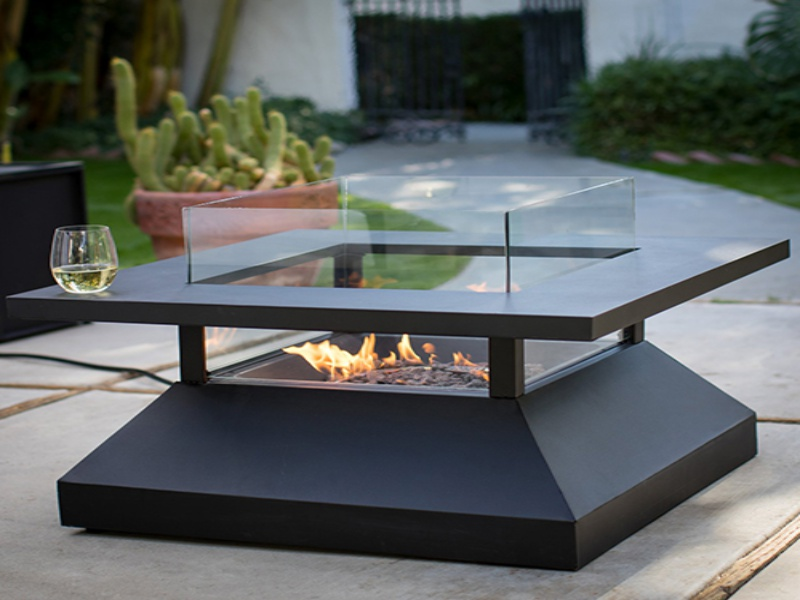fire: (281, 334, 418, 384)
